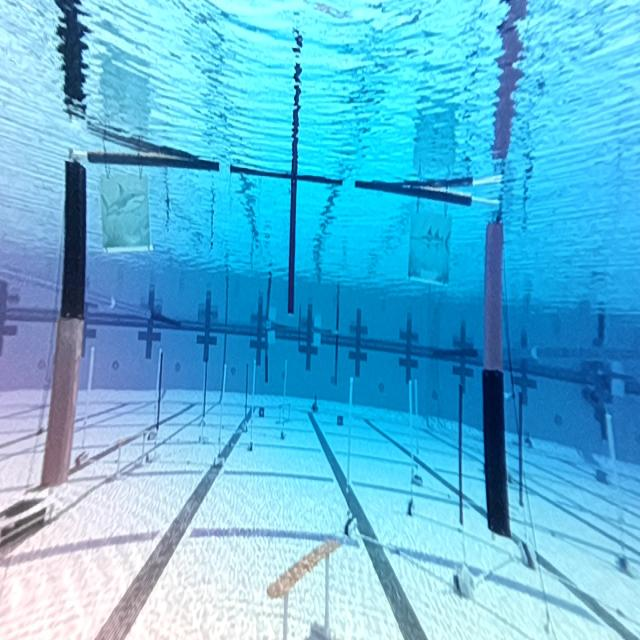pointed_nose: (412, 219, 458, 259)
round_nose: (96, 180, 158, 227)
